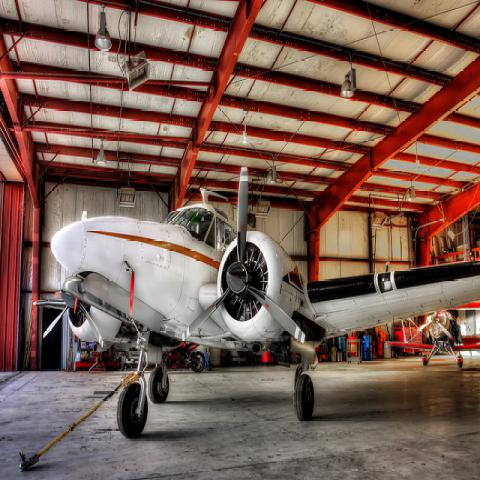motorcycle: (167, 343, 203, 375)
